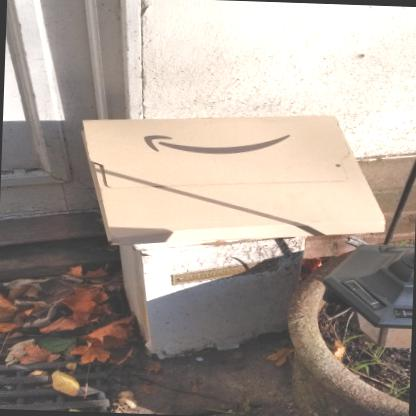box: (81, 118, 388, 248)
